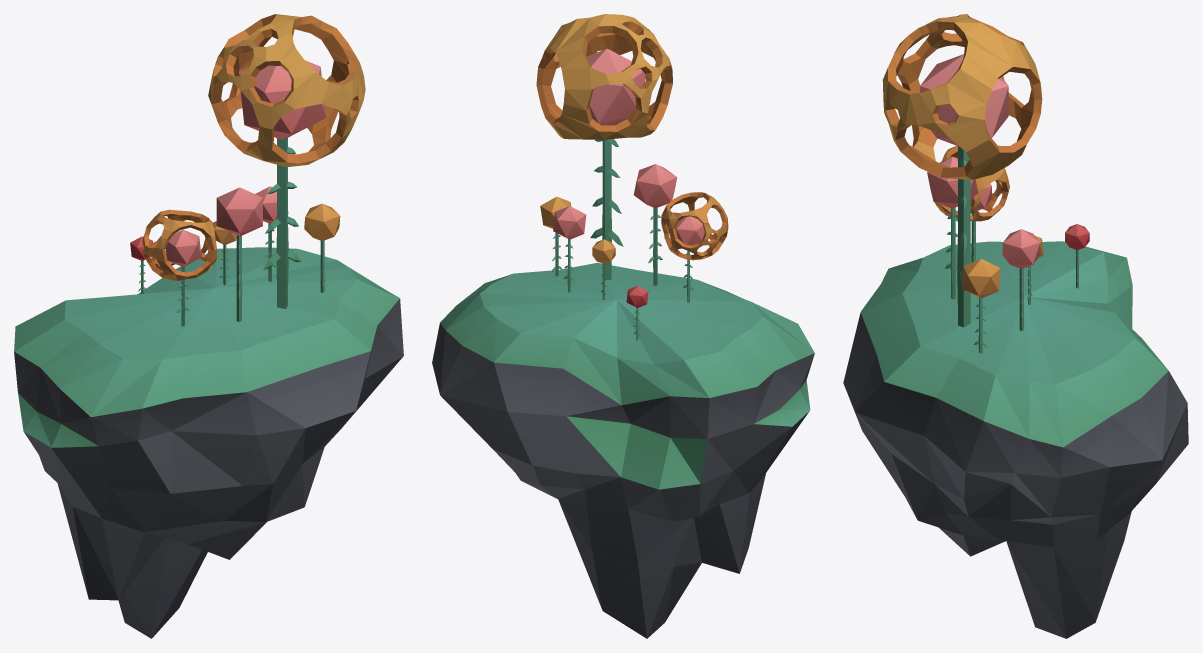
Rendered from plant_01.FBX.
3 renders of one model, left to right at view 1: azimuth 30°, elevation 25°; view 2: azimuth 150°, elevation 25°; view 3: azimuth 270°, elevation 25°, orthographic. The views are drawn at different scales.
Visible parts, largest first — view 1: plant_01; view 2: plant_01; view 3: plant_01.
Boxes of the visible parts, x1=… form: plant_01: x1=14, y1=14, x2=403, y2=638; plant_01: x1=432, y1=14, x2=814, y2=638; plant_01: x1=843, y1=14, x2=1188, y2=638.
Bounding box in the file's own units: 3.18 × 5.09 × 2.42.
Materials: 1 (1 with a texture image).
